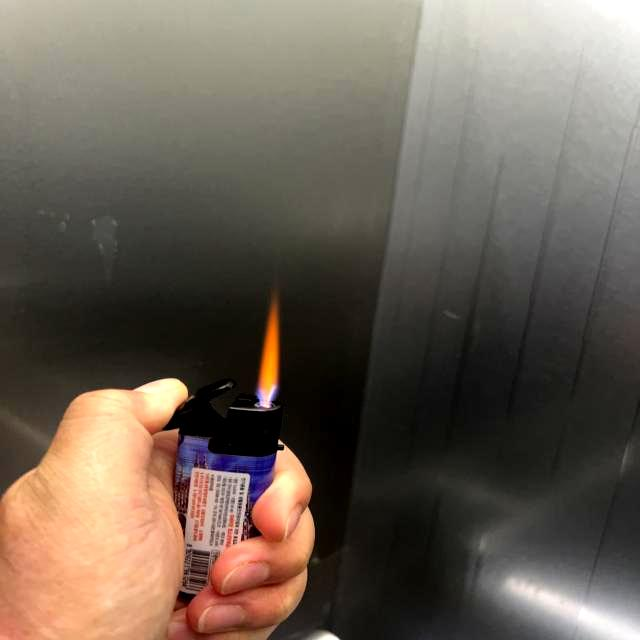fire: (254, 294, 282, 402)
